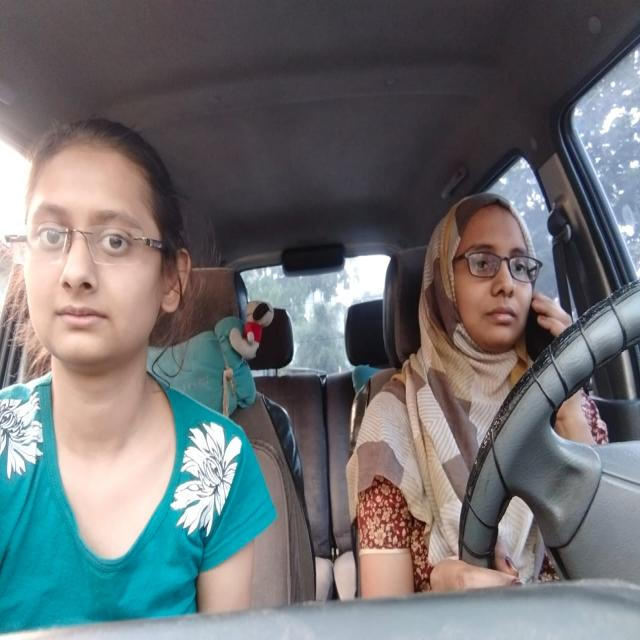mobile: (524, 280, 570, 378)
person: (0, 99, 194, 374), (416, 170, 583, 398)
